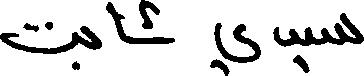X: (0, 17, 75, 74), (215, 18, 260, 75), (322, 8, 363, 49), (274, 22, 296, 67), (109, 0, 124, 46), (82, 21, 102, 54), (306, 22, 313, 75), (168, 33, 174, 48)
